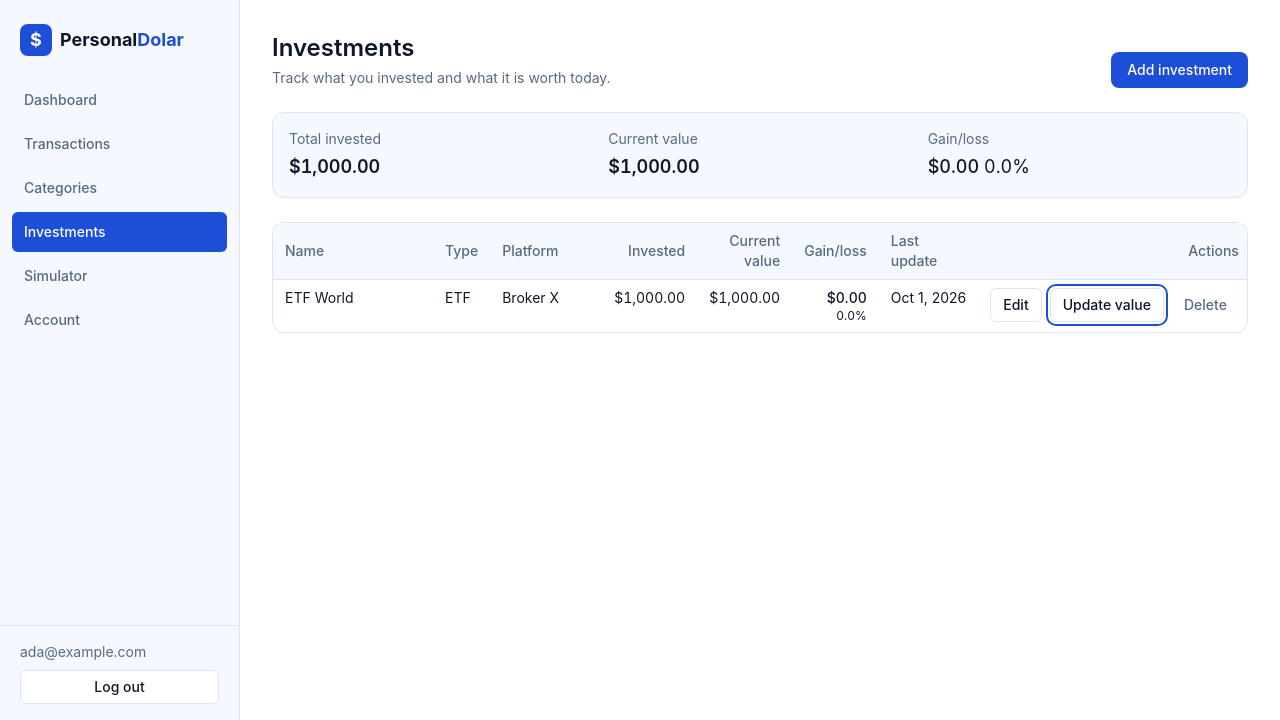
Test: saving a new value › sends only current_value, closes, and shows the updated row and totals
This screenshot has width=1280, height=720.
expect the table named "Investments" is shown: met, box [273,223,1248,332]
Click the button with aria-label "Update value of ETF World" at (1107, 305), box [1050,288,1164,322]
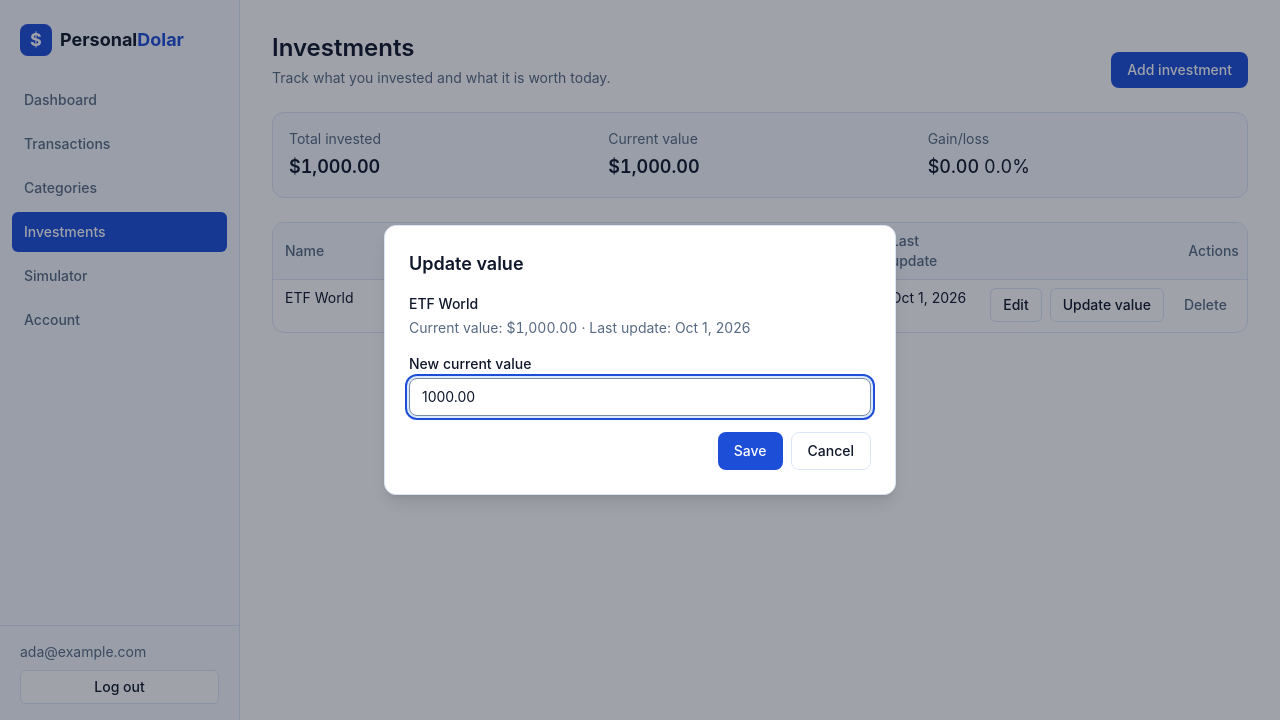
Replace the text in the field labelled "New current value" with "1150" at (640, 397), box [409,378,871,416]
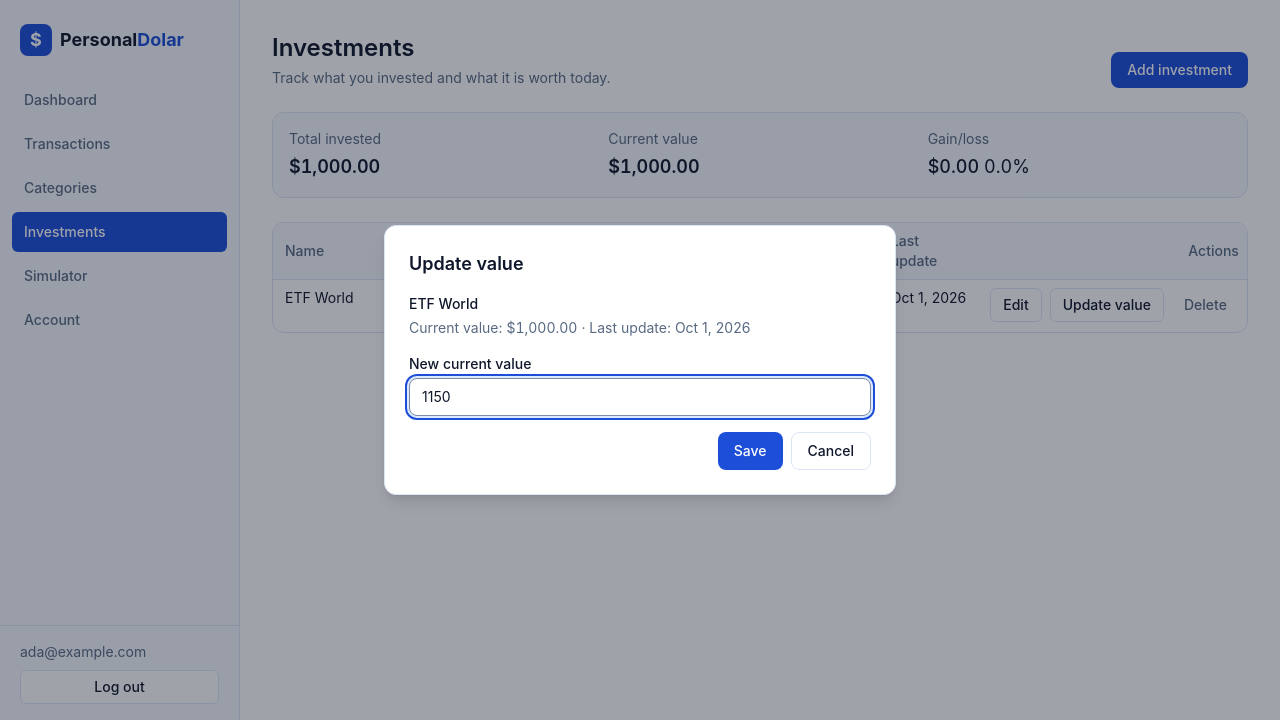
Click the button "Save" at (750, 451), box [718,432,782,470]
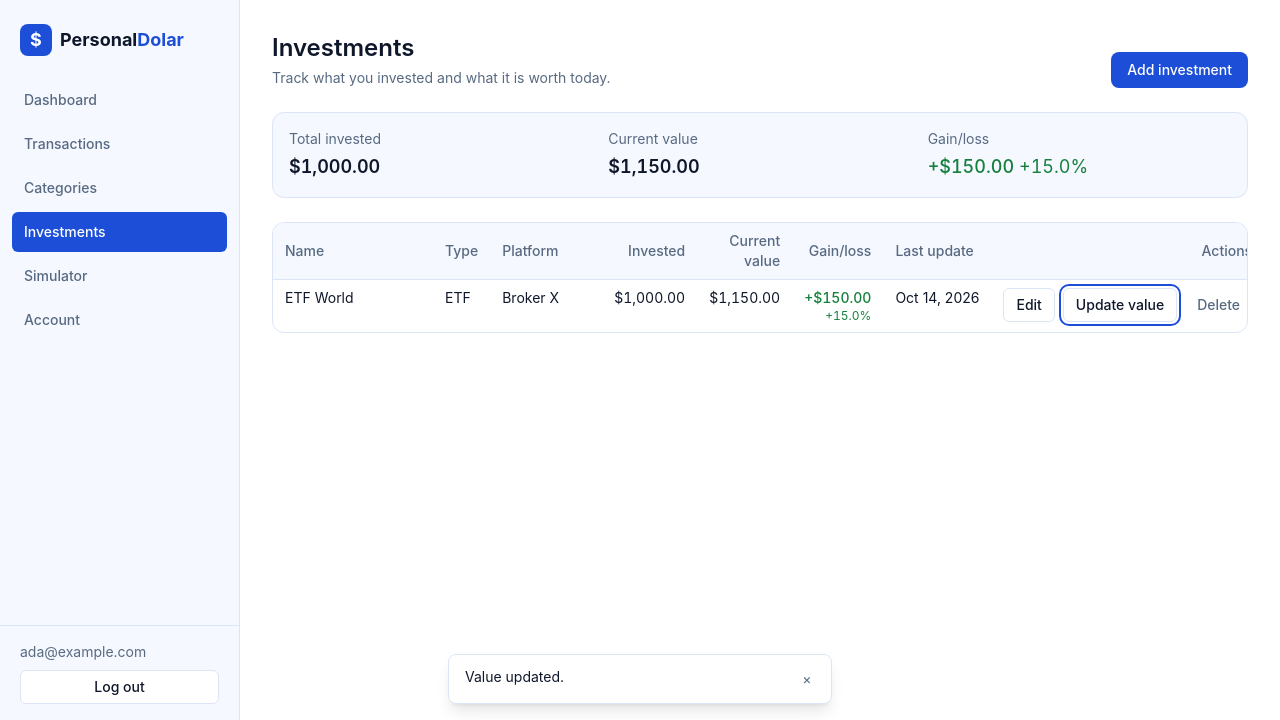
expect the dialog is gone: met
expect the cell "$1,150.00" is shown: met, box [697,280,792,332]
expect the cell "Oct 14, 2026" is shown: met, box [883,280,992,332]
